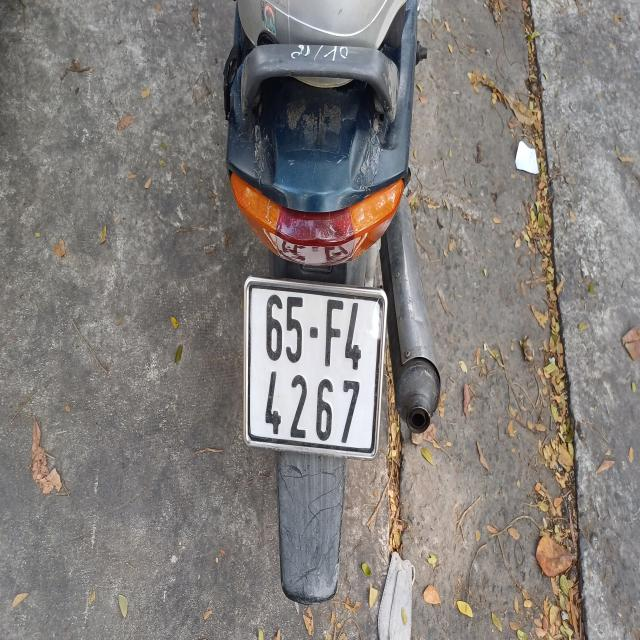2: (291, 374, 308, 439)
4: (344, 302, 363, 371), (264, 370, 282, 436)
5: (286, 296, 305, 364)
6: (266, 291, 282, 363), (315, 378, 333, 440)
7: (341, 379, 361, 445)
F: (322, 298, 343, 366)
